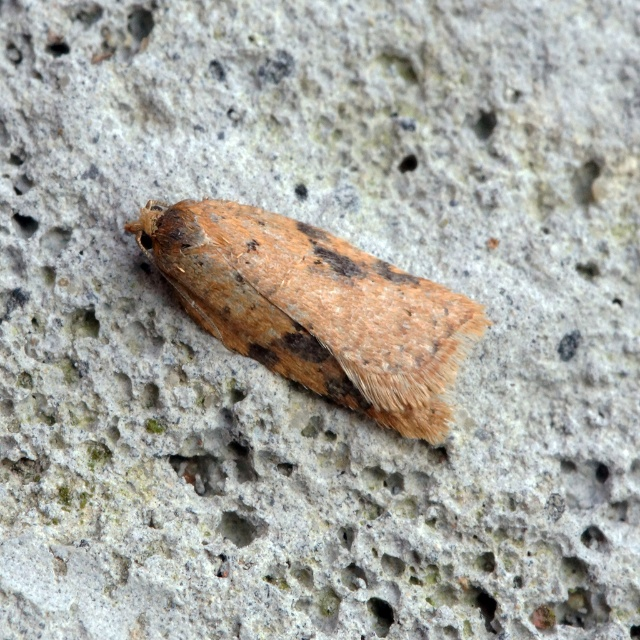Moths and butterflies: (123, 193, 493, 447)
